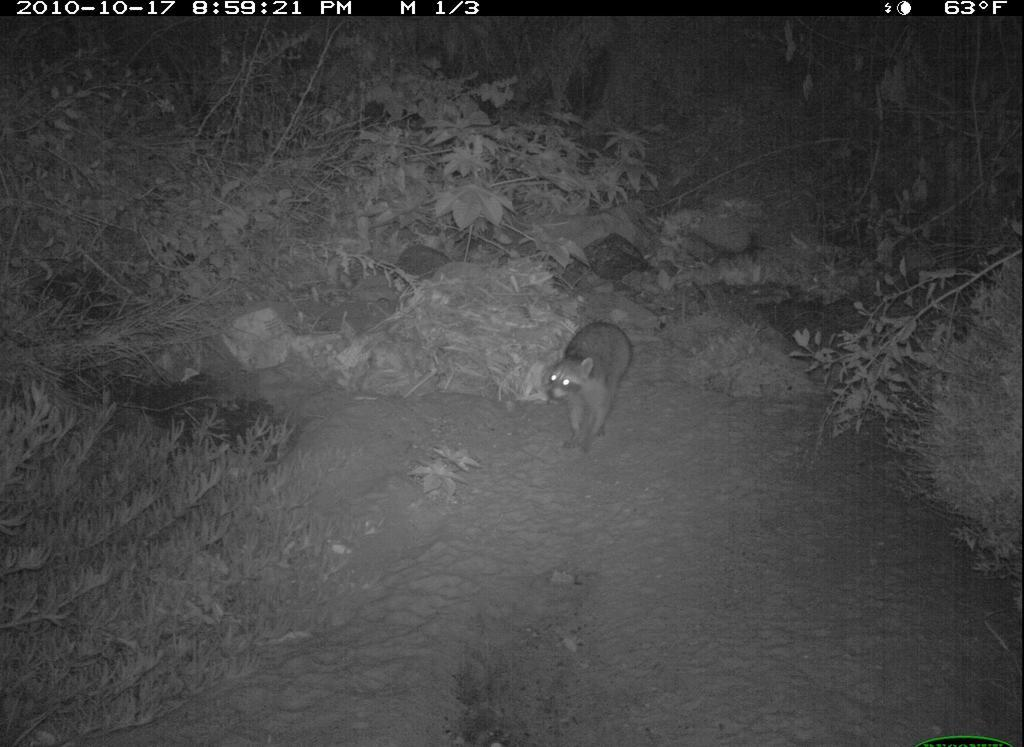raccoon: (541, 312, 643, 460)
